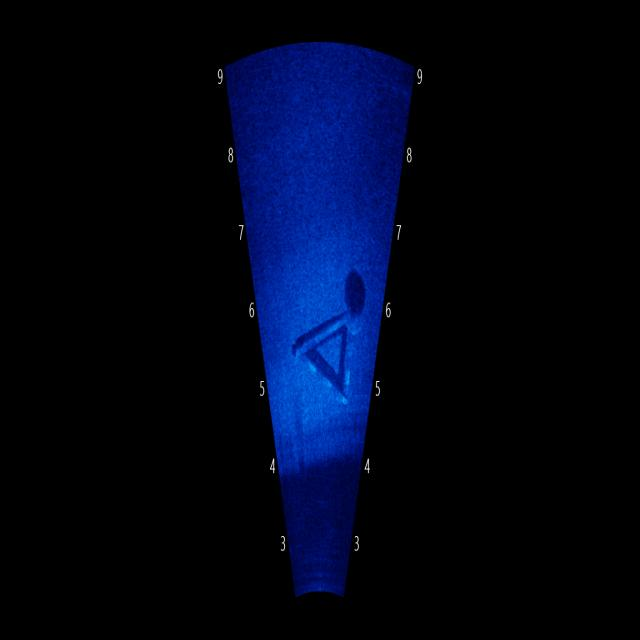triangle: (295, 232, 361, 428)
